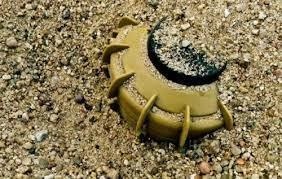pmn: (101, 9, 244, 150)
